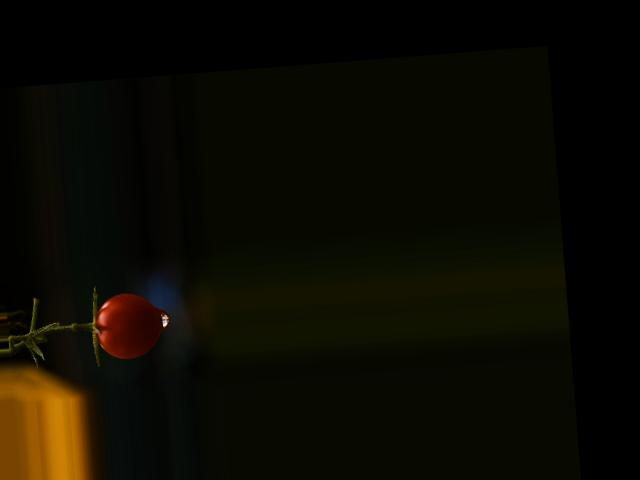tomato: (93, 290, 162, 360)
